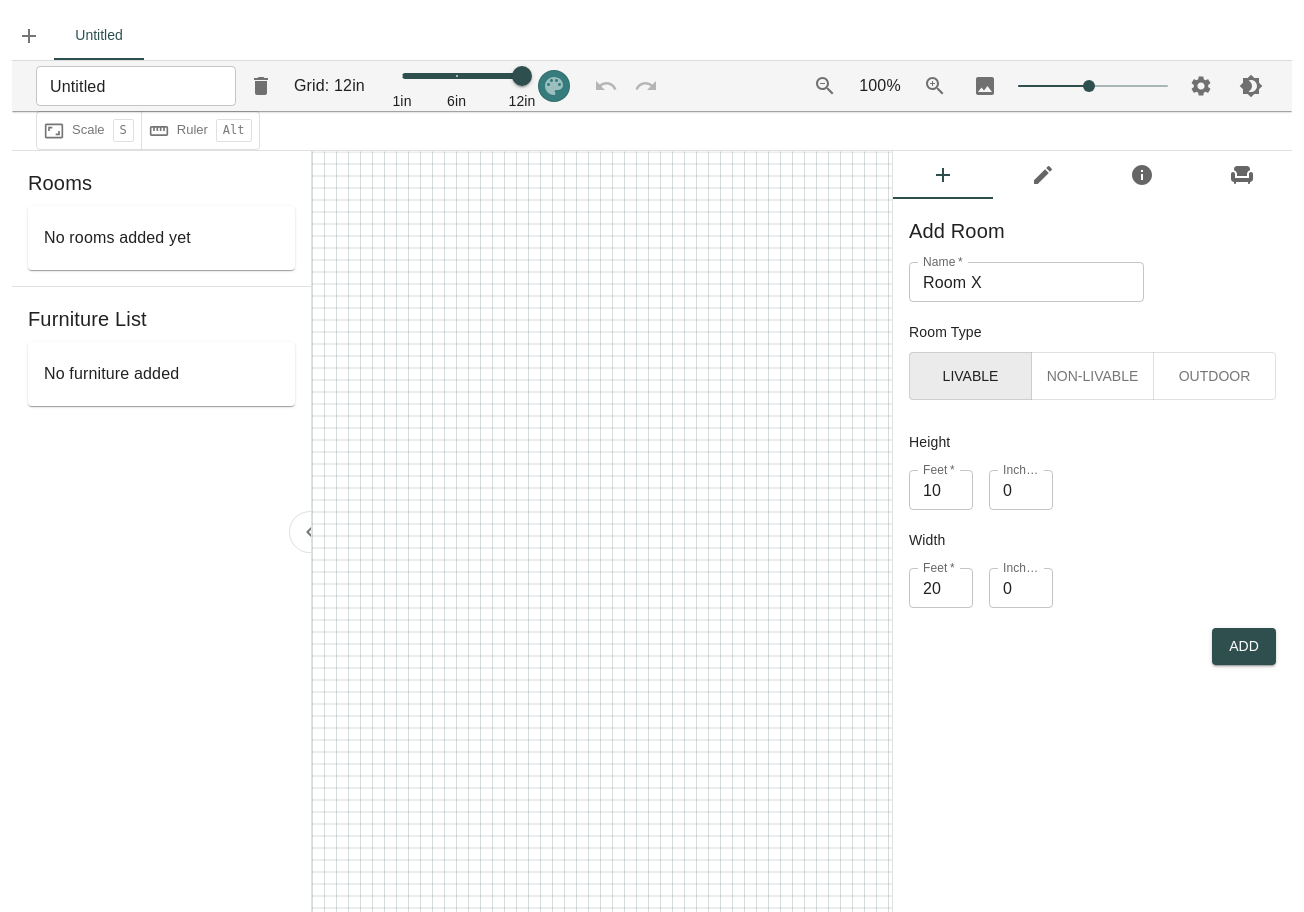
Test: App furniture propagation › furniture added in the sidebar appears in the left list and canvas
This screenshot has width=1304, height=912.
Check: the text "No furniture added" is shown, box [44,365,179,382]
Click the tab named "Add Furniture" at x=1242, y=175, box [1192,151,1292,199]
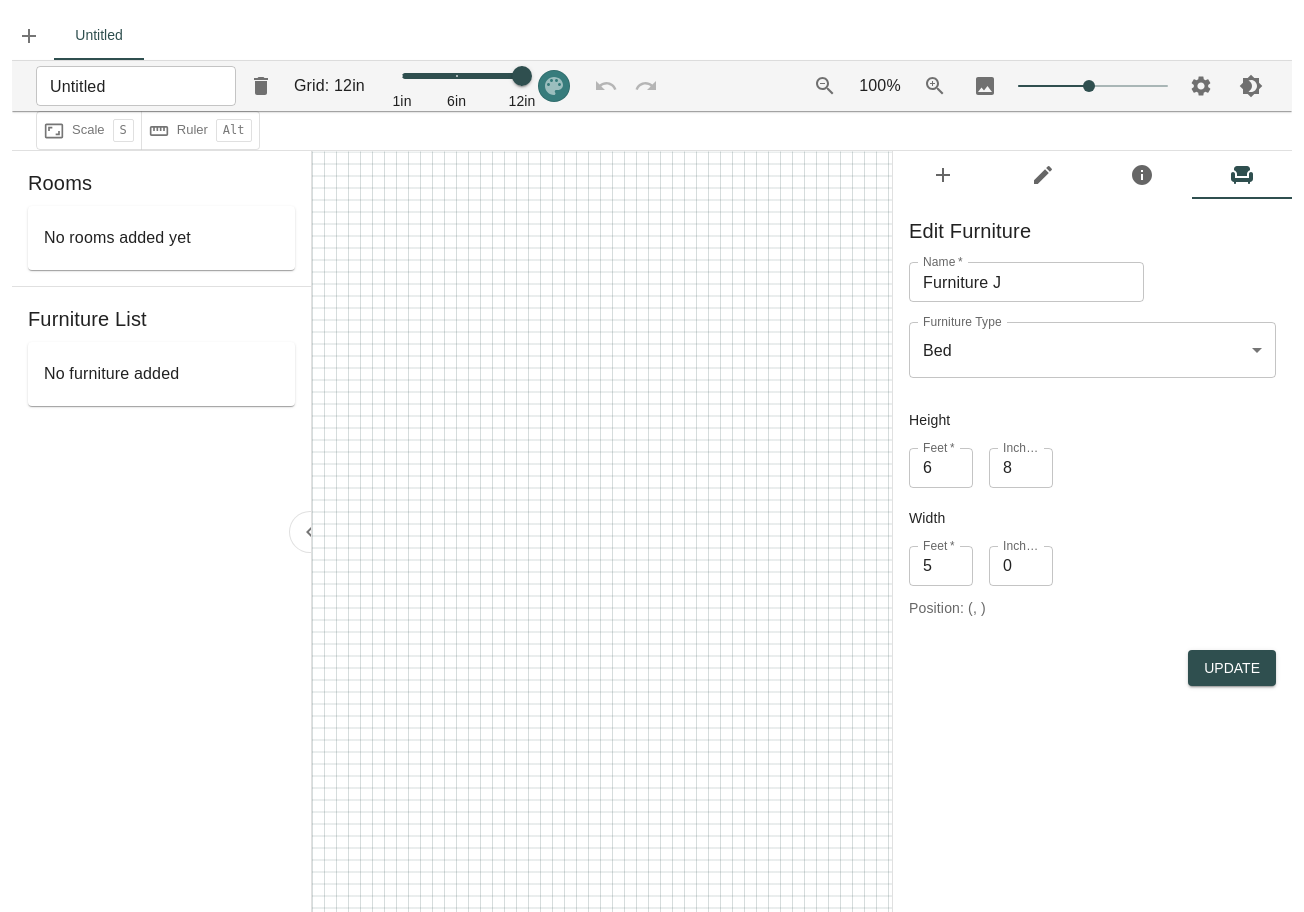
Replace the text in the field labelled "Name *" with "Test Desk" at x=1026, y=282, box [909,262,1144,302]
Replace the text in the 1st number field labelled "Feet *" with "2" at x=941, y=468, box [909,448,973,488]
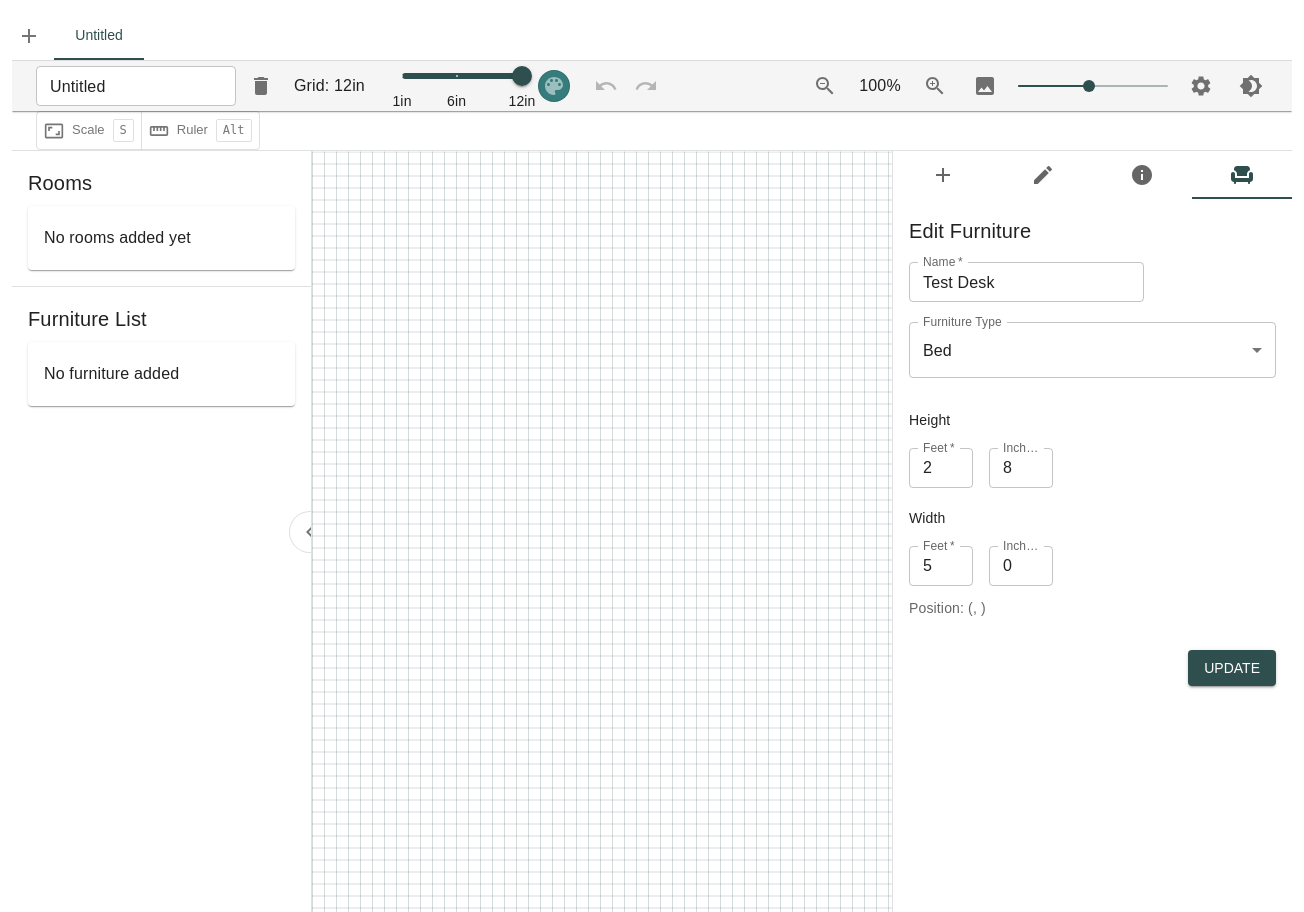
Replace the text in the 1st number field labelled "Inches *" with "5" at x=1021, y=468, box [989,448,1053,488]
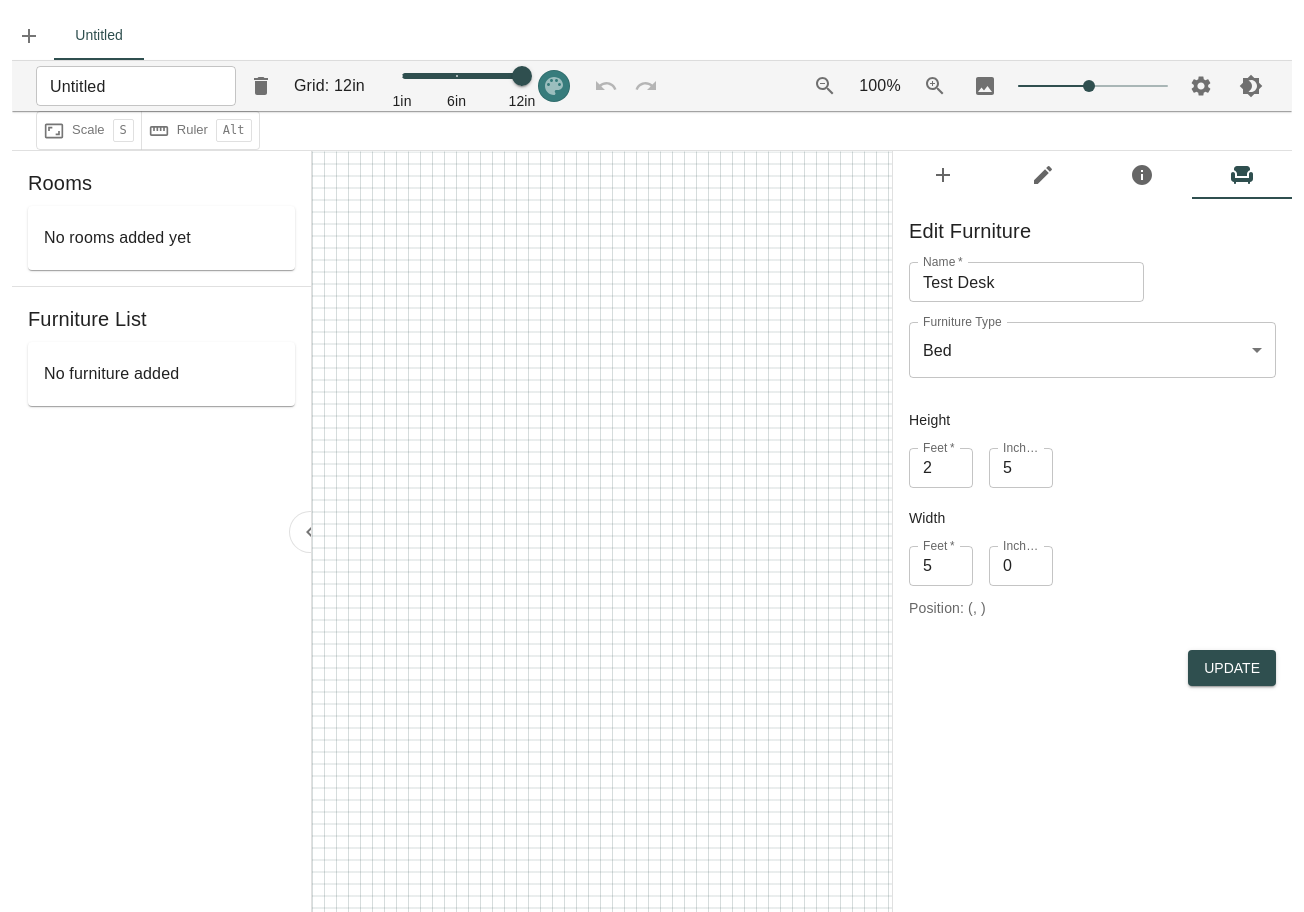
Replace the text in the 2nd number field labelled "Feet *" with "4" at x=941, y=566, box [909,546,973,586]
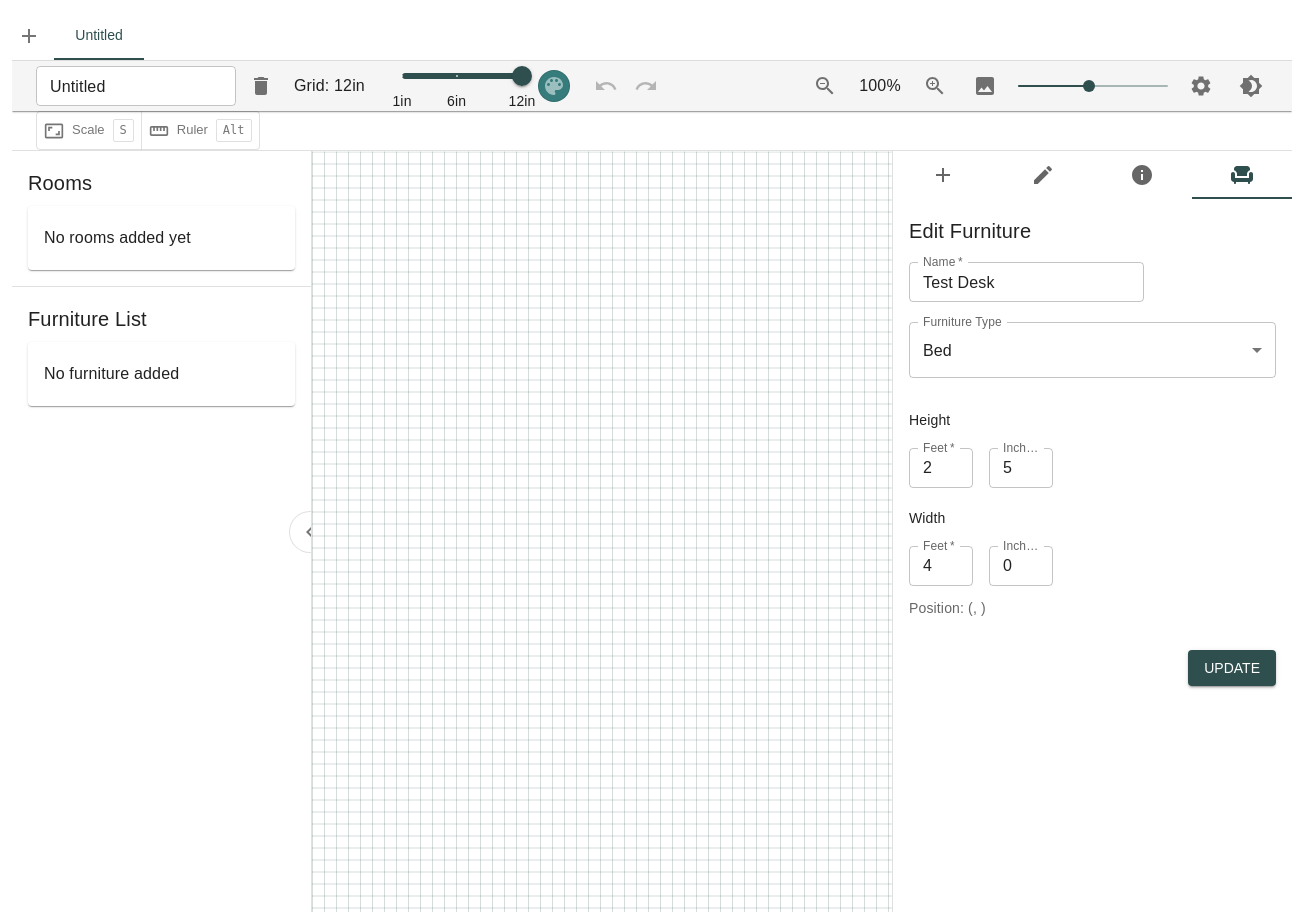
Replace the text in the 2nd number field labelled "Inches *" with "7" at x=1021, y=566, box [989,546,1053,586]
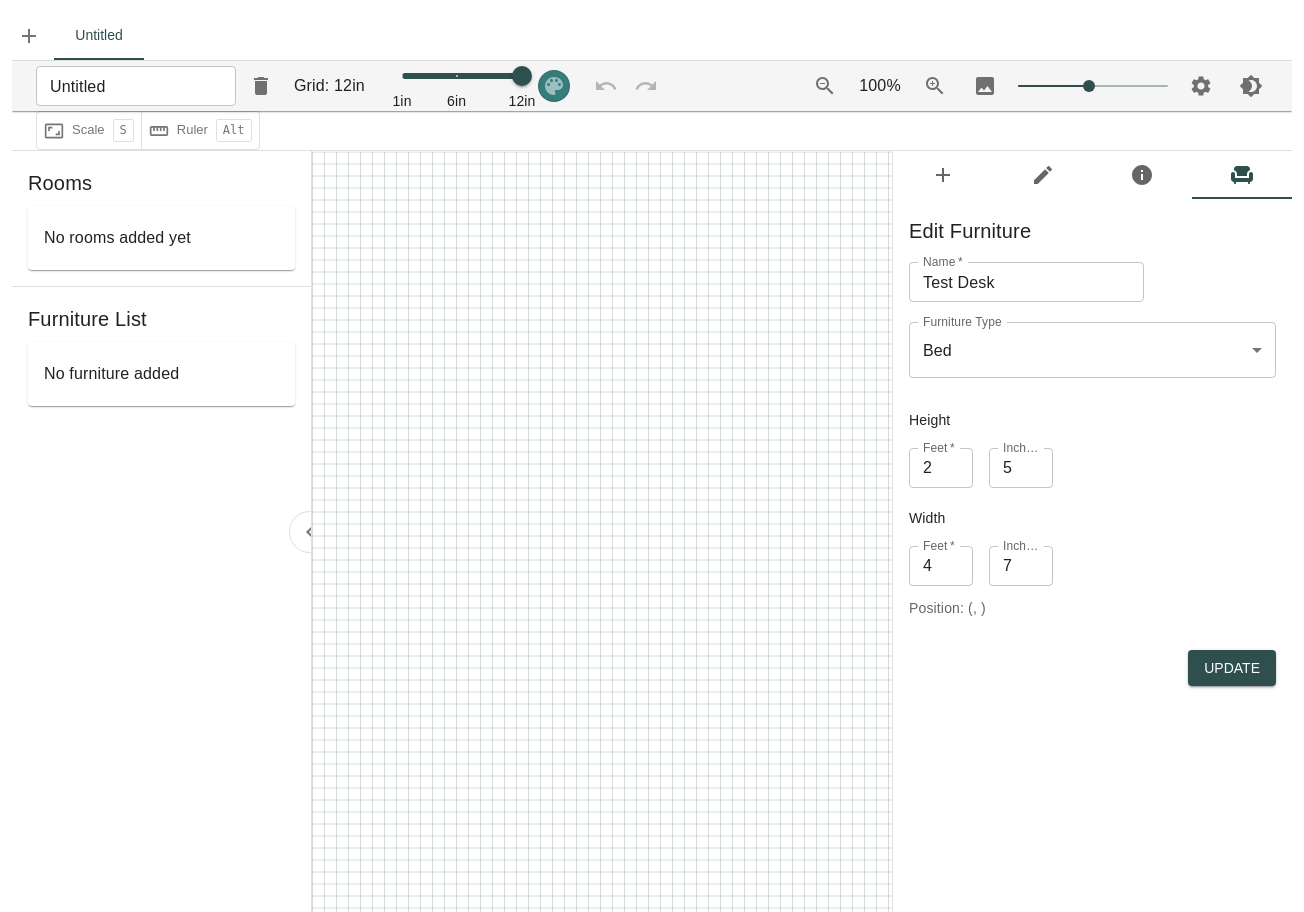
Submit the form, box [893,199,1292,702]
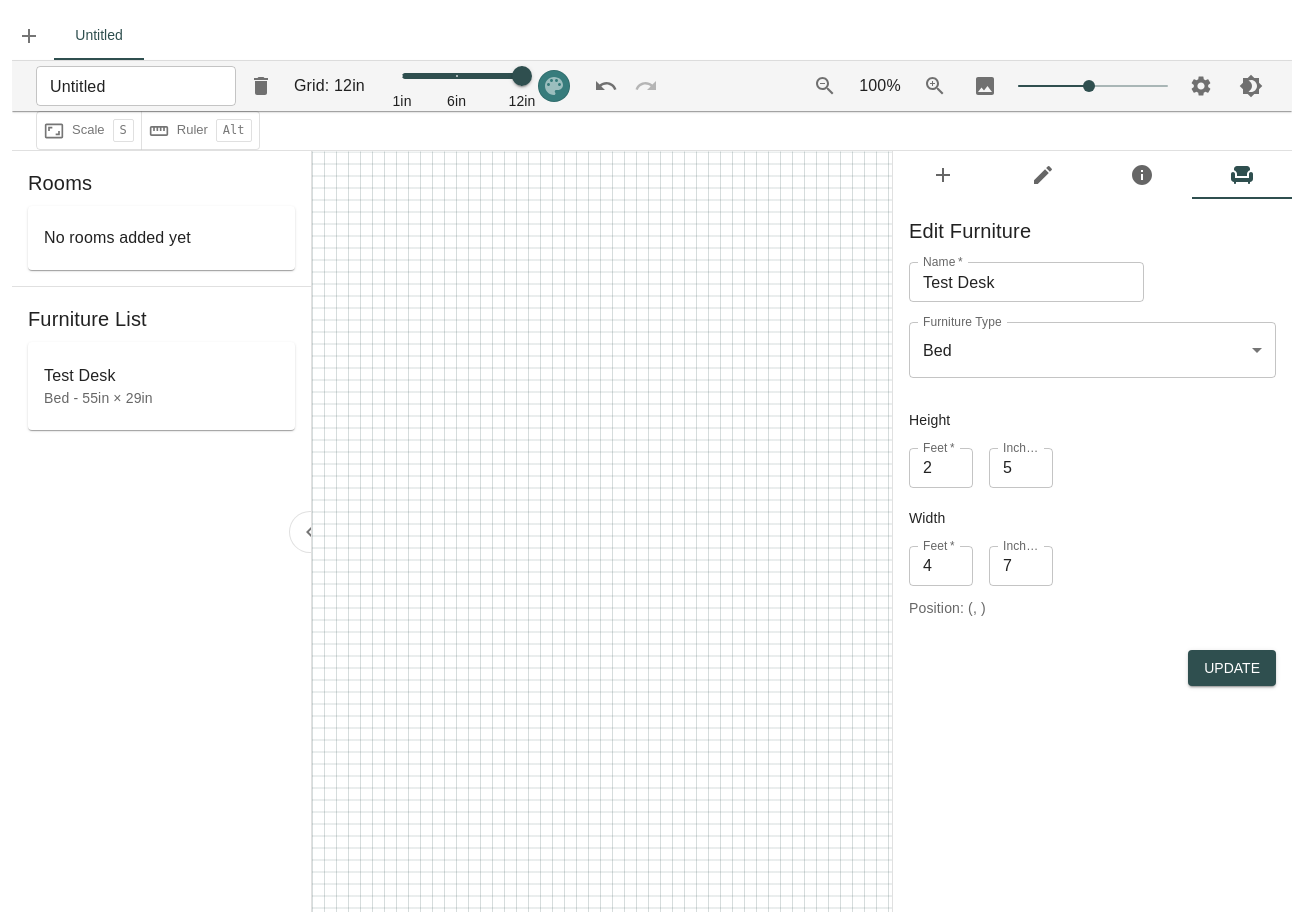
Check: the text "Test Desk" is shown, box [44,367,116,384]
